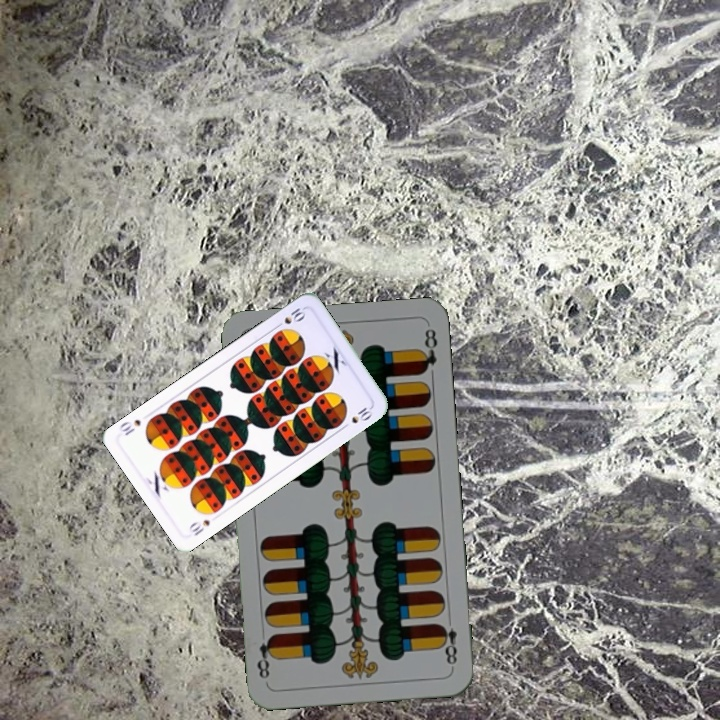E8: (435, 611, 460, 670)
S10: (271, 304, 308, 331), (185, 515, 213, 538)
